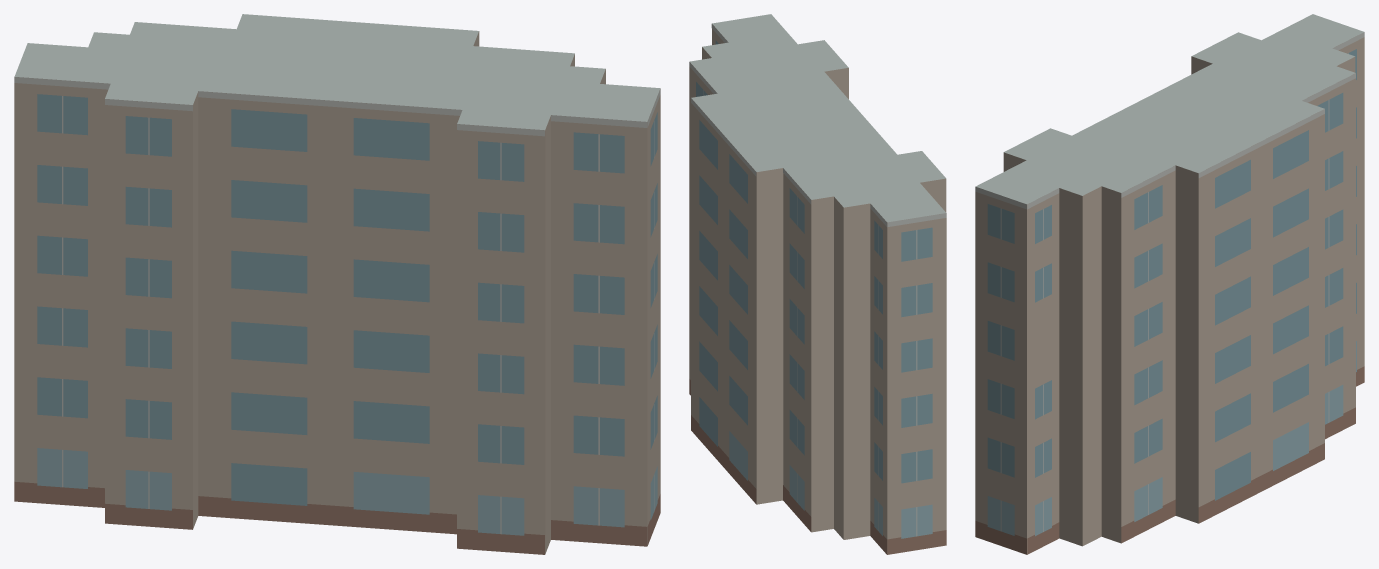
The model's file is survey-upis-32619118.glb.
3 renders of one model, left to right at view 1: azimuth 30°, elevation 25°; view 2: azimuth 150°, elevation 25°; view 3: azimuth 270°, elevation 25°, orthographic. The views are drawn at different scales.
Parts seen in each view (by area): view 1: survey-upis-32619118.tmp; view 2: survey-upis-32619118.tmp; view 3: survey-upis-32619118.tmp.
Part boxes in pixels (<box>): survey-upis-32619118.tmp: <box>14,14,660,554</box>; survey-upis-32619118.tmp: <box>689,14,946,554</box>; survey-upis-32619118.tmp: <box>975,14,1364,554</box>.
Size of the model in its own units: 19.58 by 16.8 by 16.92.
